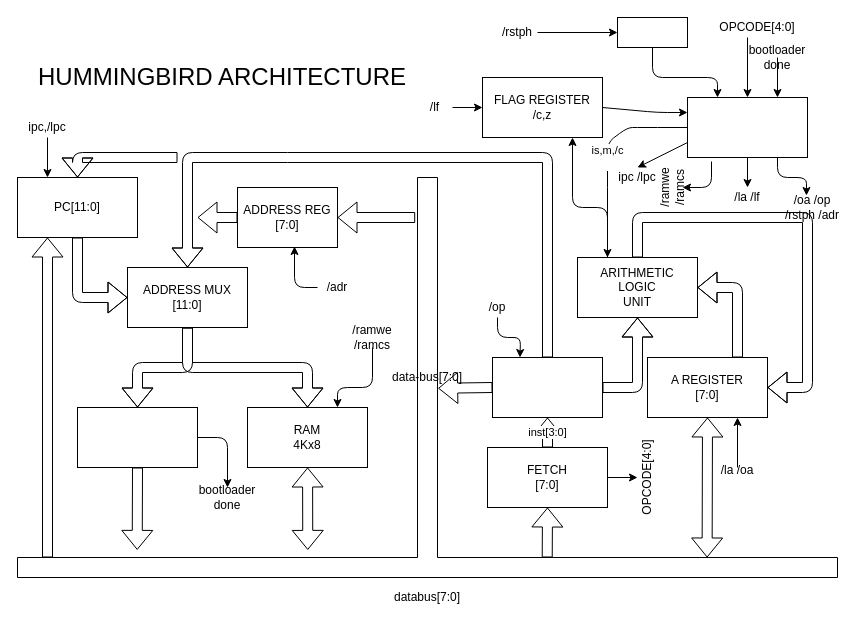
This 865x625 diagram has some shape labels left out. The shapes that lost their labels are listed below. From the top down, each one's centre as x and y in pixels, then its label:
[652,32]: PHASE[3:0]
[747,127]: UCODE
[547,387]: OPERAND MUX
[137,437]: PROGRAM STORE 4Kx8
